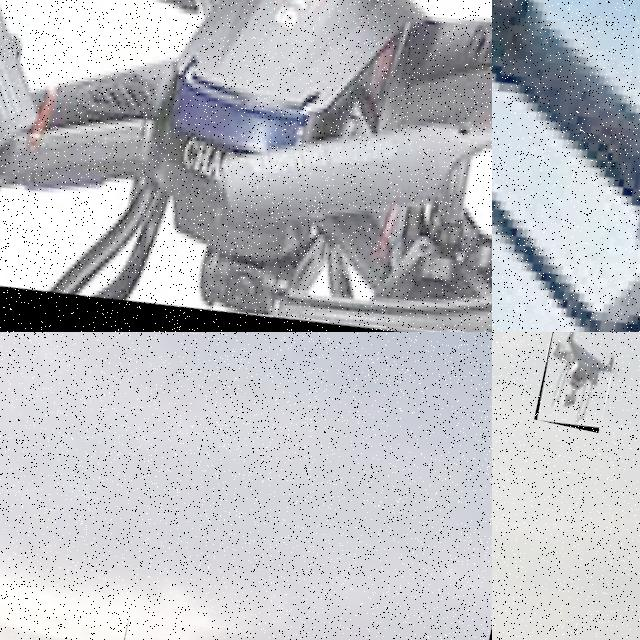drone: (0, 0, 492, 332), (492, 0, 640, 332), (533, 332, 623, 433)
